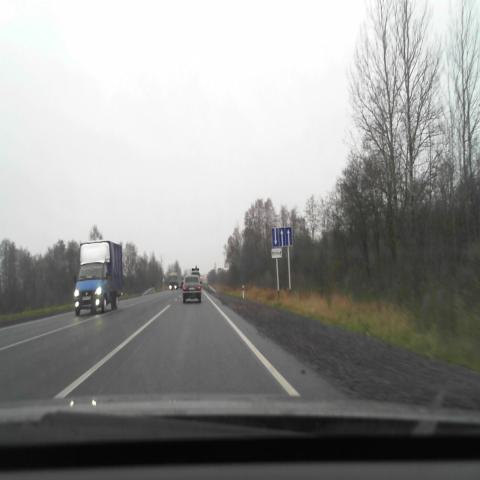5_15_7: (272, 227, 292, 247)
